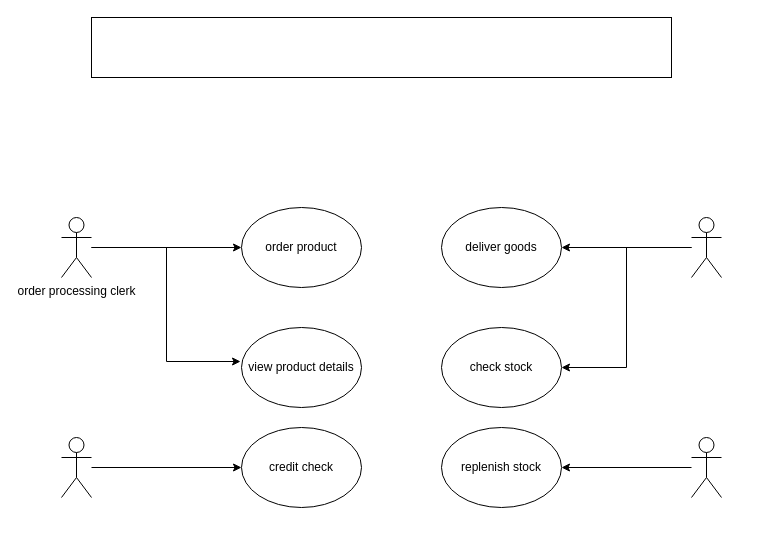
Image size: 782x536. Some labels were removed from this diagram. Each missing label, with the box of its shape:
Finance Department: (60, 436, 92, 498)
GOLDENSMILE ORDER FULFILLMENT SYSTEM: (90, 16, 672, 78)
Inventory Department: (690, 436, 722, 498)
Transport Department: (690, 216, 722, 278)
